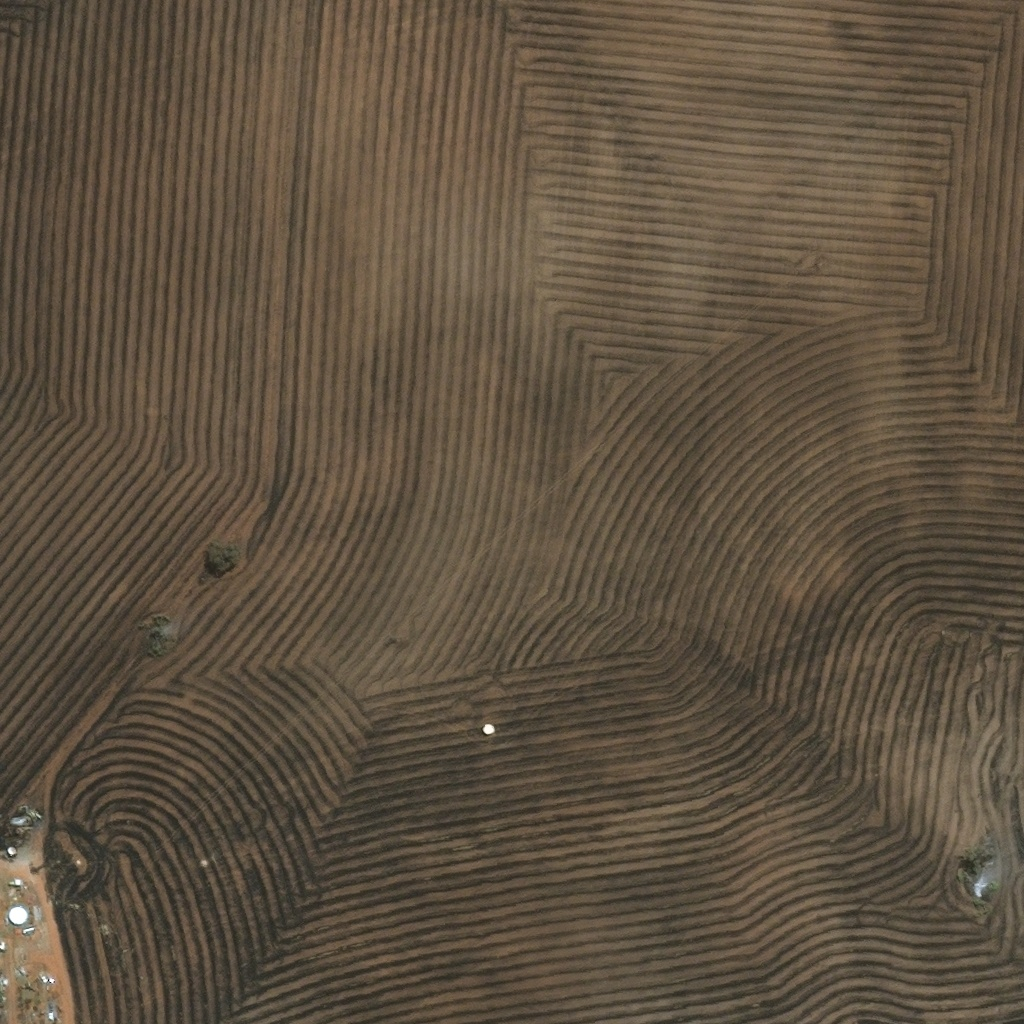0 no-damage: (7, 906, 26, 924), (38, 975, 47, 983), (46, 1012, 52, 1020)
